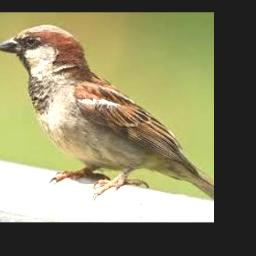Sparrow: (0, 24, 214, 200)
